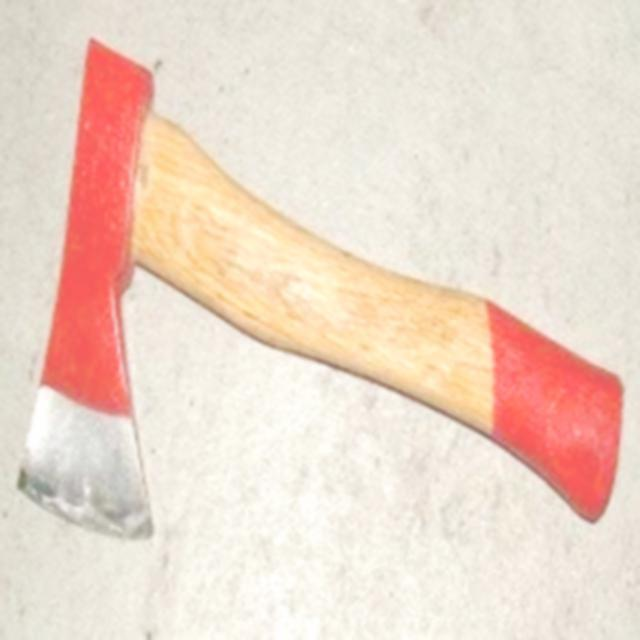ax: (10, 32, 630, 548)
